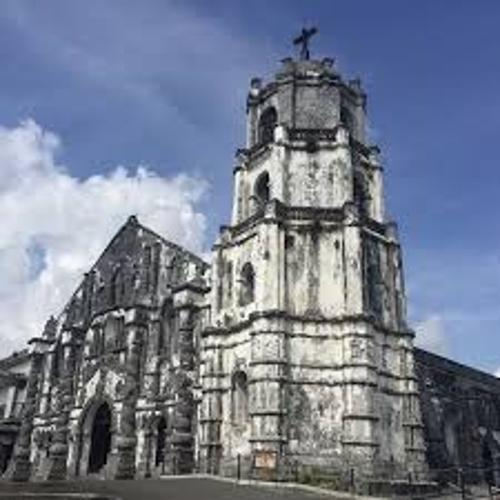Daraga Church: (25, 21, 431, 500)
